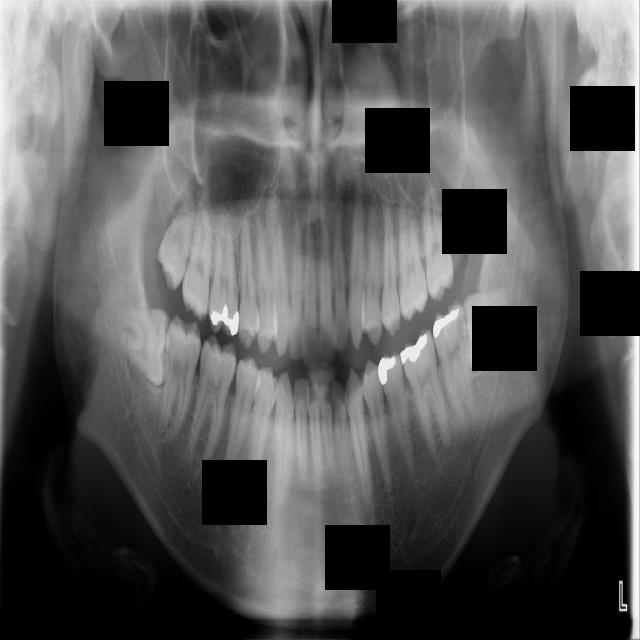3M ESPE Implant: (150, 183, 203, 294)
52: (387, 325, 453, 390), (430, 297, 469, 363), (207, 278, 240, 339), (376, 350, 406, 405)
73: (608, 595, 620, 613)
BioHorizons Implant: (419, 178, 456, 303)
BioLife Implant: (448, 189, 465, 243)
Biomet 3i Implant: (457, 288, 517, 372)
Blue Sky Bio Implant: (430, 297, 477, 428)
Caries: (181, 180, 213, 322)
Implant: (158, 311, 205, 445)
Keystone Dental Implant: (117, 306, 171, 388)
